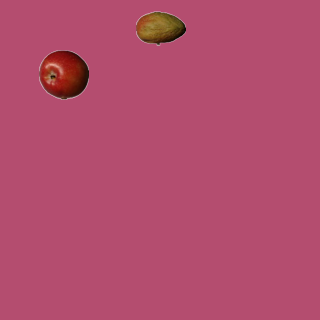Apple Braeburn: (38, 49, 88, 99)
Papaya: (135, 3, 185, 53)
